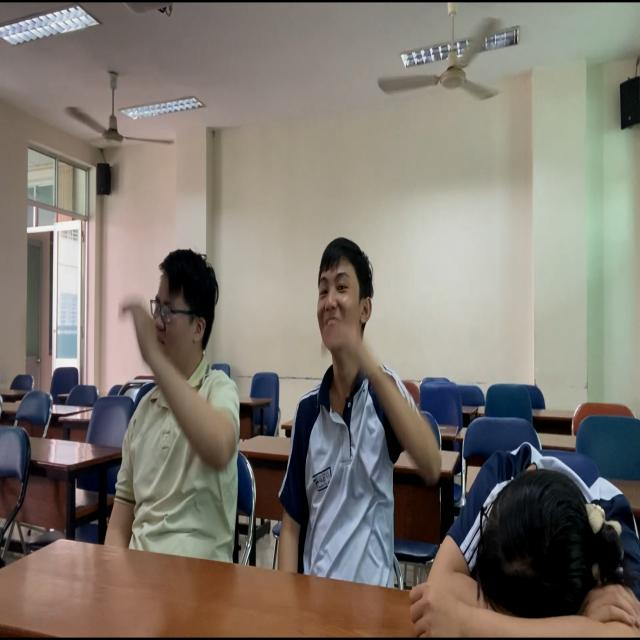sleep: (417, 447, 640, 640)
